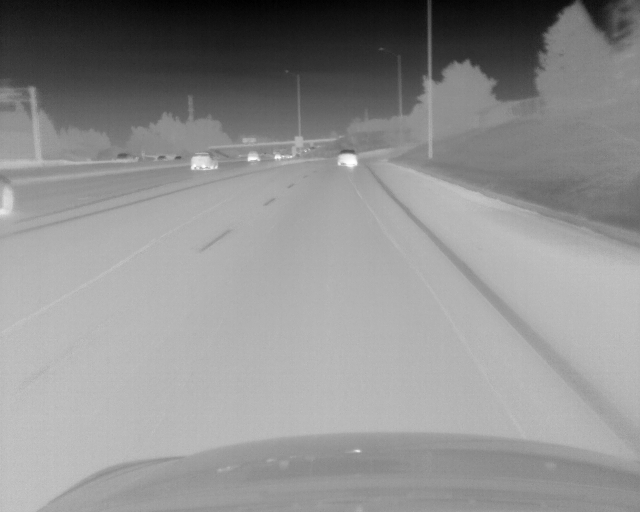car: (1, 174, 15, 218), (189, 152, 219, 170), (337, 149, 358, 167), (246, 150, 261, 163), (274, 153, 281, 159)
